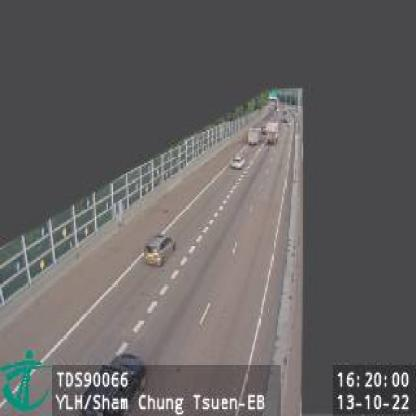Car: (83, 349, 147, 416), (142, 233, 176, 269), (230, 154, 244, 170)
Truck: (265, 122, 279, 146), (247, 127, 260, 146)
